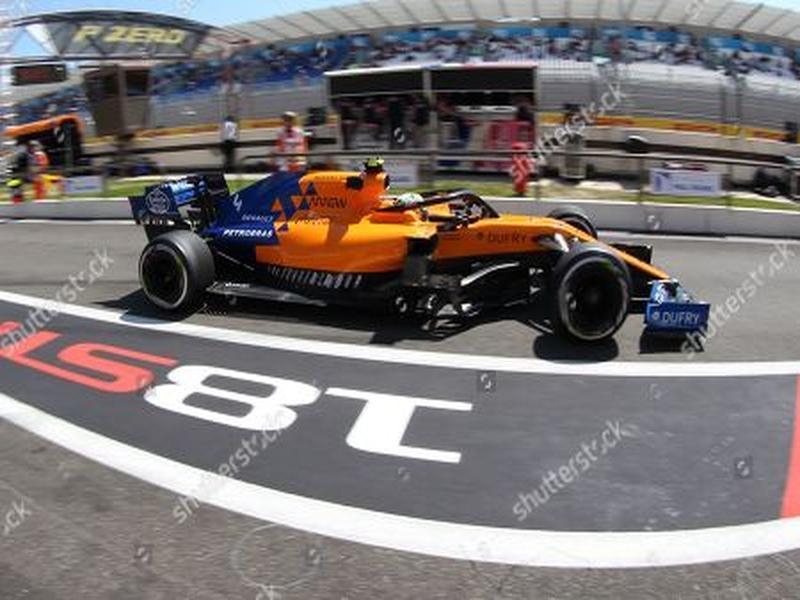f1: (126, 134, 757, 408)
